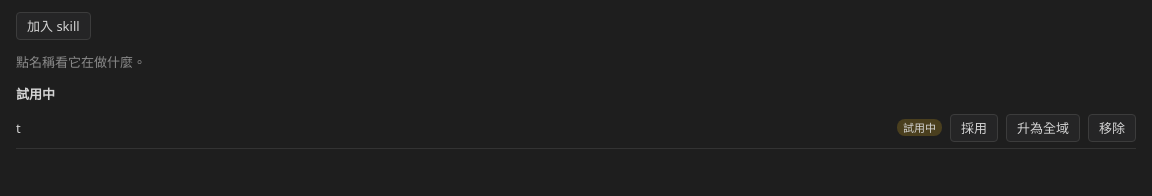
SkillsView › says so when a skill has no description
The width and height of the screenshot is (1152, 196).
Click the button "t" at [18, 128], box [16,119,889,137]
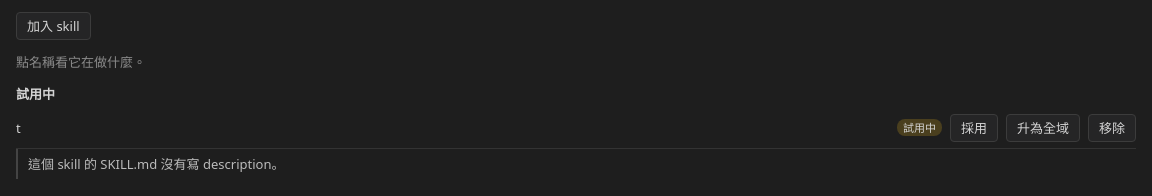
Expected: the text "這個 skill 的 SKILL.md 沒有寫 description。" is shown, [16,149,1136,179]
